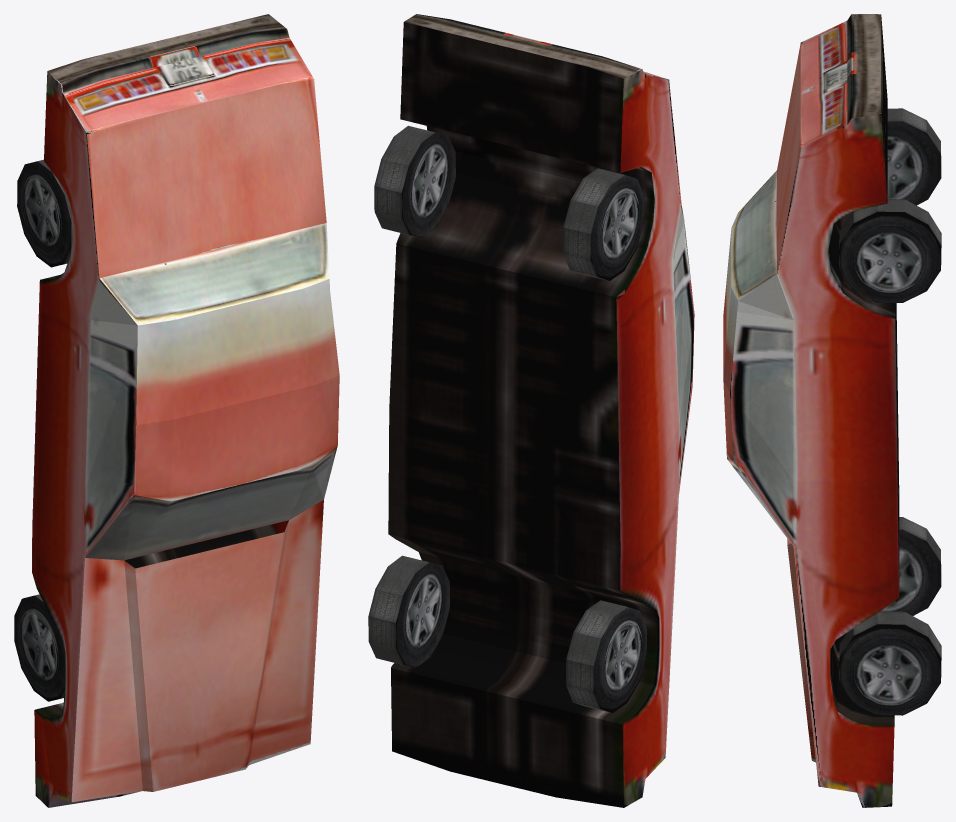
File: carpack_pinkcar_wtf.obj
The picture shows the model from 3 angles, left to right: view 1: azimuth 30°, elevation 25°; view 2: azimuth 150°, elevation 25°; view 3: azimuth 270°, elevation 25°; orthographic projection. The views are drawn at different scales.
Visible parts, largest first — view 1: group2; view 2: group2; view 3: group2.
Part boxes in pixels (box(x1,y1,x2,y2)): group2: box(14, 14, 339, 807); group2: box(368, 14, 694, 807); group2: box(723, 14, 941, 807).
Size of the model in its own units: 224 by 660 by 187.
